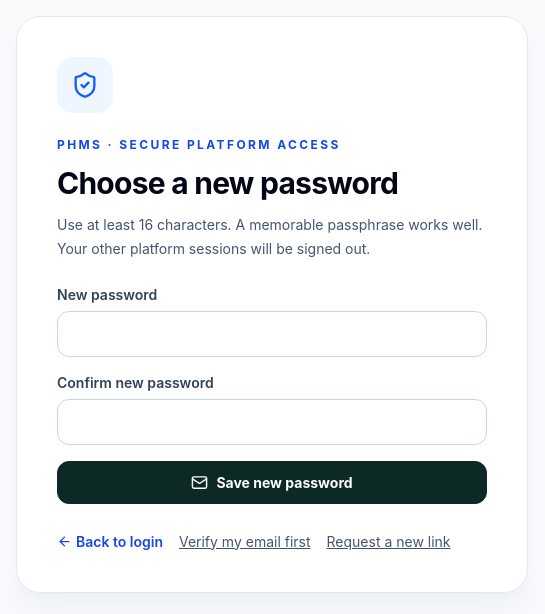
submits password confirmation and the token without auto-login
Step 1. Type "Long-test-passphrase-123" into the password field labelled "New password" → (272, 334), box x1=57 y1=310 x2=487 y2=356
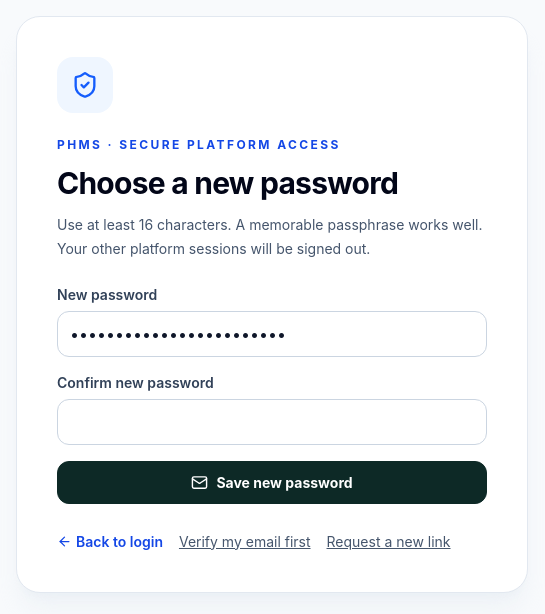
Step 2. Type "Long-test-passphrase-123" into the password field labelled "Confirm new password" → (272, 422), box x1=57 y1=398 x2=487 y2=444
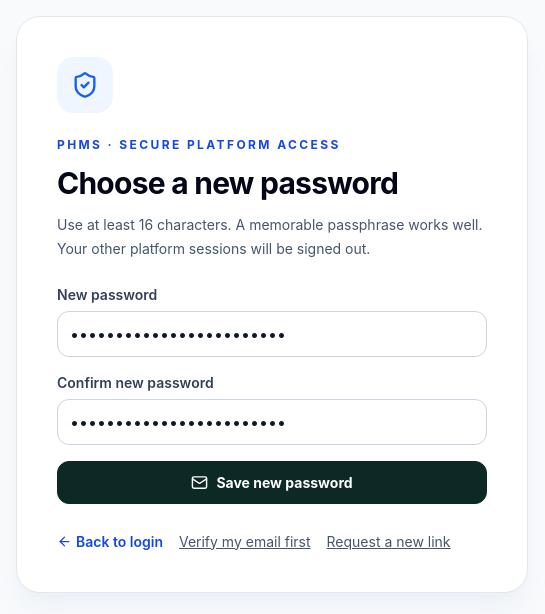
Step 3. Click the button "Save new password" → (272, 482), box x1=57 y1=460 x2=487 y2=504
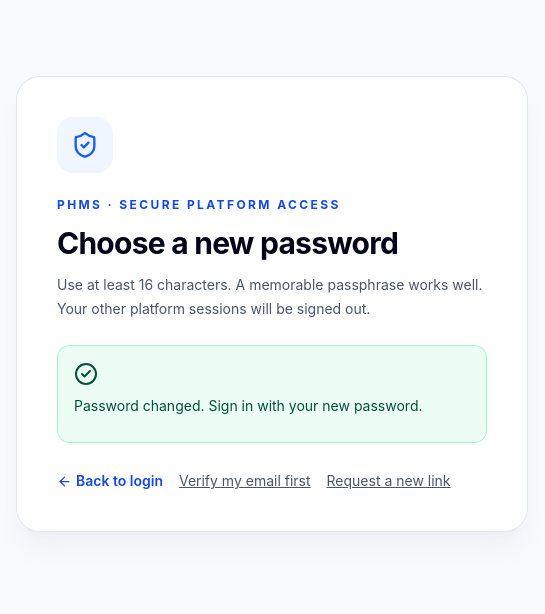
expect the message shows "Password changed": met, box x1=74 y1=397 x2=422 y2=414
